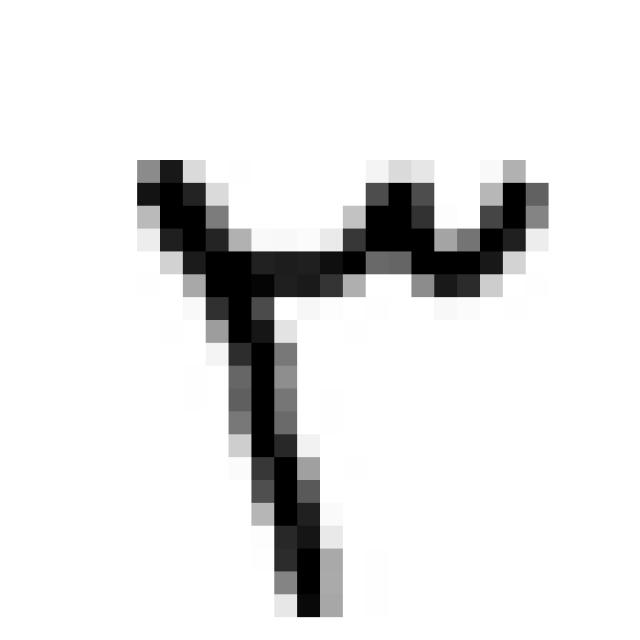3 -three-: (110, 126, 567, 626)
